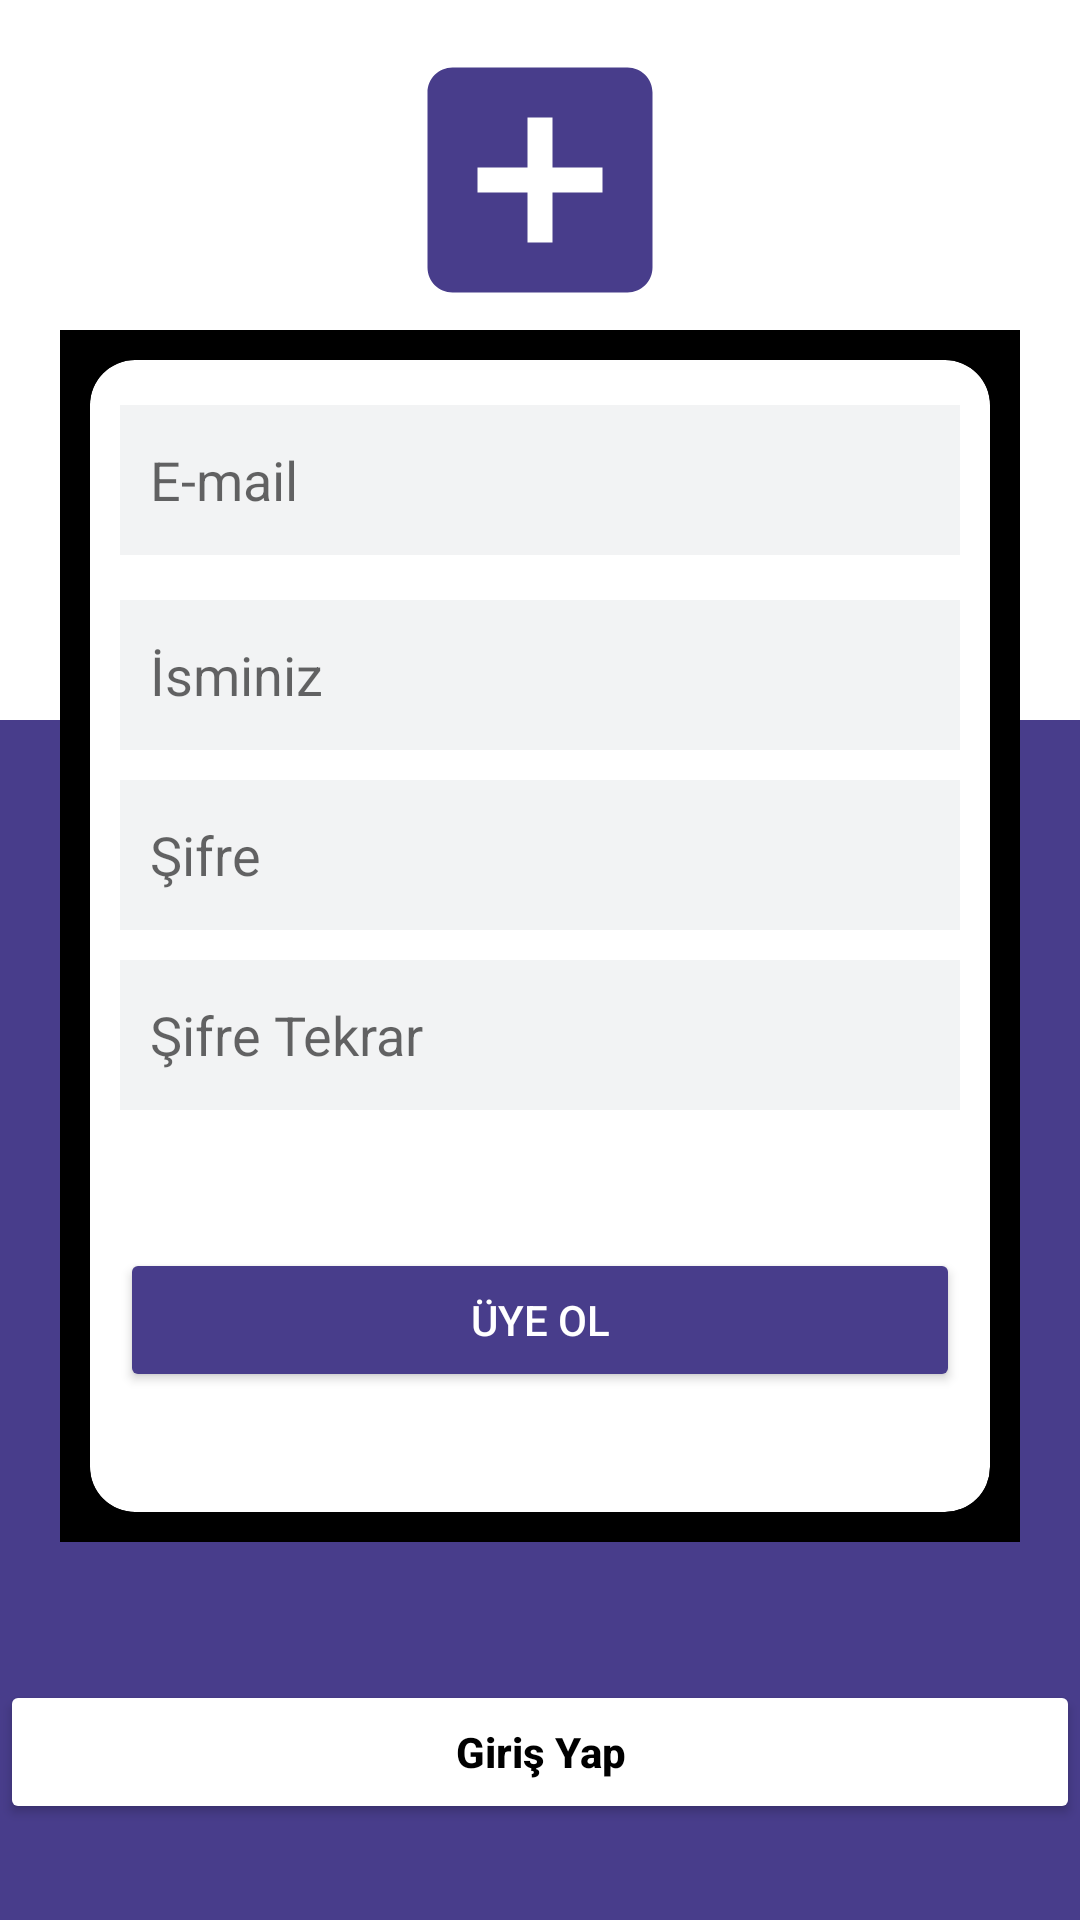

Locate icon controls on the screen. Image size 1080*1920, boxes as box(x1, y1, x2, y2).
add: box(427, 67, 653, 293)
